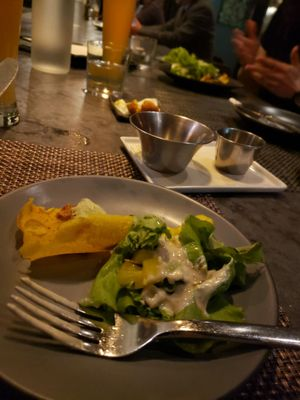burger: (2, 277, 299, 359)
pizza: (31, 0, 74, 75), (0, 0, 23, 129), (214, 127, 265, 177), (0, 57, 21, 129), (128, 34, 158, 70)
sushi: (127, 111, 217, 176)
